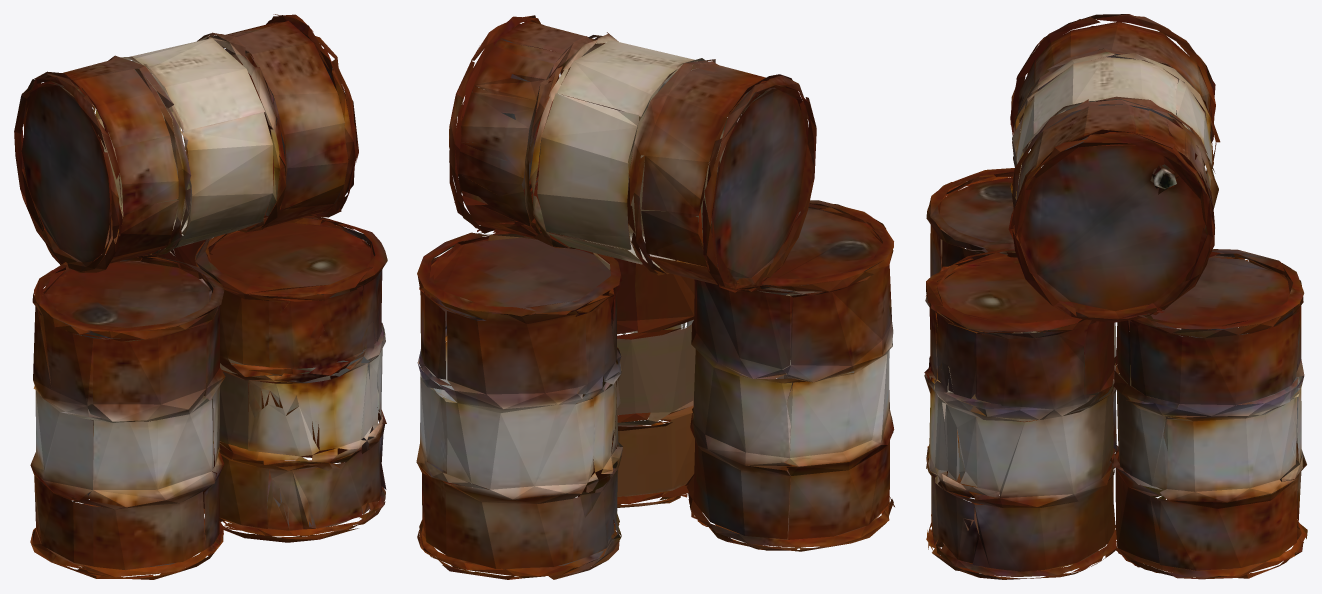
Rendered from barrels.glb.
3 views of the same model, side by side, from view 1: azimuth 30°, elevation 25°; view 2: azimuth 150°, elevation 25°; view 3: azimuth 270°, elevation 25° (orthographic). The views are drawn at different scales.
Visible parts, largest first — view 1: obj.obj; view 2: obj.obj; view 3: obj.obj.
Boxes of the visible parts, x1=… form: obj.obj: x1=14, y1=14, x2=387, y2=579; obj.obj: x1=416, y1=15, x2=894, y2=579; obj.obj: x1=924, y1=14, x2=1307, y2=579.
Size of the model in its own units: 0.8679 by 1.1 by 0.8558.
1 material, 1 textured.
